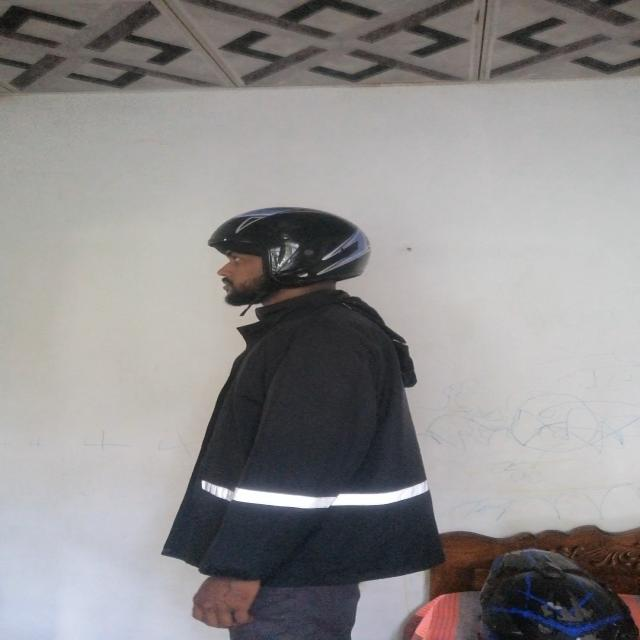Helmet_Wearer: (210, 213, 372, 314)
Jacket_Wearer: (196, 291, 443, 607)
Person: (200, 202, 443, 640)
